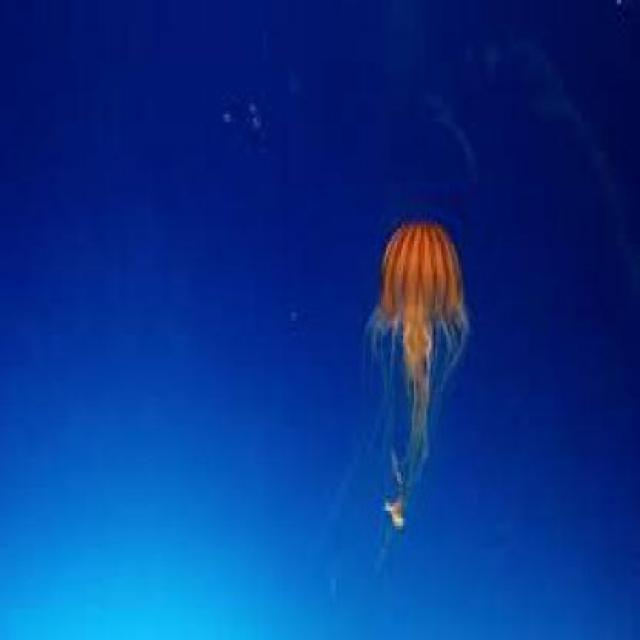Jellyfish: (361, 209, 472, 537)
